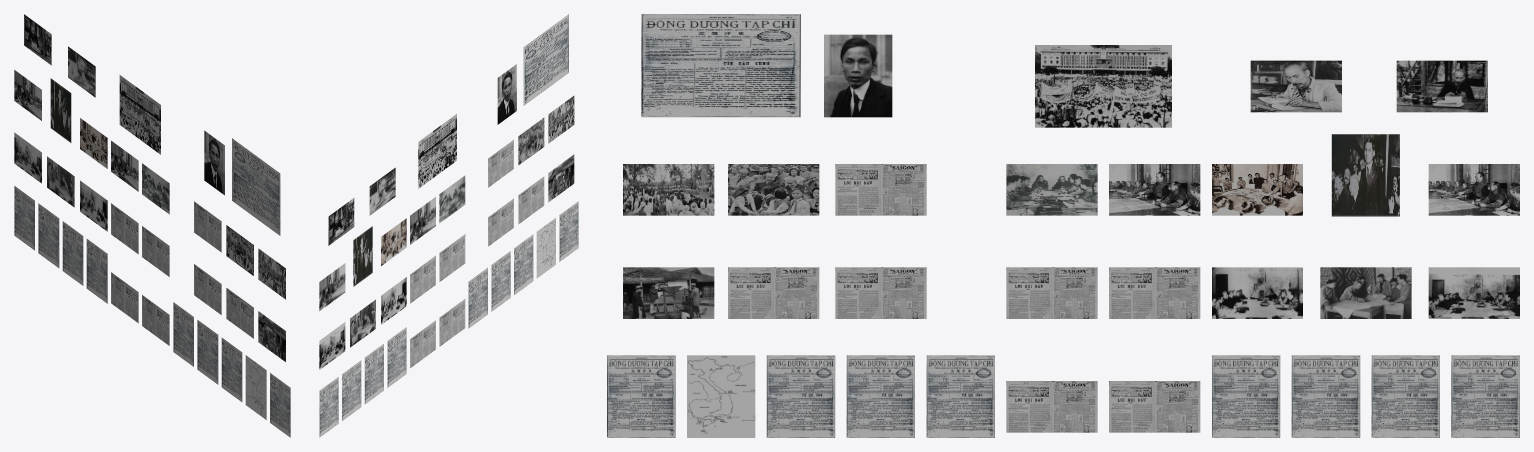
The model's file is HanhTrinhBC_Inside_2.glb.
The picture shows the model from 3 angles, left to right: view 1: azimuth 30°, elevation 25°; view 2: azimuth 150°, elevation 25°; view 3: azimuth 270°, elevation 25°; orthographic projection. The views are drawn at different scales.
Visible parts, largest first — view 1: Plane.009, Plane.006, Plane.011, Plane.010, Plane.028, Plane.002, Plane.015, Plane.025, Plane.019, Plane.007, Plane.029, Plane.027 (+20 smaller); view 2: Plane.009, Plane.006, Plane.007, Plane.029, Plane.027, Plane.026, Plane.002, Plane.015, Plane.025, Plane.028, Plane.011, Plane.010 (+20 smaller); view 3: Plane.009, Plane.006, Plane.002, Plane.019, Plane.027, Plane.029, Plane.028, Plane.026, Plane.007, Plane.011, Plane.010, Plane.015 (+20 smaller).
Boxes of the visible parts, x1=… form: Plane.009: x1=232, y1=138, x2=280, y2=235; Plane.006: x1=119, y1=75, x2=160, y2=154; Plane.011: x1=197, y1=320, x2=218, y2=384; Plane.010: x1=86, y1=239, x2=107, y2=303; Plane.028: x1=245, y1=355, x2=266, y2=419; Plane.002: x1=221, y1=337, x2=242, y2=401; Plane.015: x1=38, y1=203, x2=59, y2=267; Plane.025: x1=50, y1=78, x2=71, y2=142; Plane.019: x1=62, y1=221, x2=83, y2=285; Plane.007: x1=173, y1=302, x2=193, y2=366; Plane.029: x1=270, y1=373, x2=290, y2=437; Plane.027: x1=204, y1=130, x2=224, y2=195; Plane.009: x1=523, y1=14, x2=568, y2=105; Plane.006: x1=418, y1=114, x2=456, y2=188; Plane.007: x1=468, y1=267, x2=487, y2=328; Plane.029: x1=559, y1=201, x2=578, y2=261; Plane.027: x1=497, y1=64, x2=516, y2=124; Plane.026: x1=319, y1=377, x2=338, y2=437; Plane.002: x1=514, y1=234, x2=533, y2=294; Plane.015: x1=342, y1=360, x2=361, y2=420; Plane.025: x1=353, y1=226, x2=372, y2=286; Plane.028: x1=536, y1=218, x2=555, y2=278; Plane.011: x1=491, y1=251, x2=510, y2=311; Plane.010: x1=387, y1=327, x2=406, y2=387; Plane.009: x1=641, y1=14, x2=800, y2=117; Plane.006: x1=1035, y1=45, x2=1171, y2=127; Plane.002: x1=766, y1=355, x2=835, y2=437; Plane.019: x1=1291, y1=355, x2=1360, y2=437; Plane.027: x1=824, y1=34, x2=892, y2=117; Plane.029: x1=607, y1=355, x2=675, y2=437; Plane.028: x1=687, y1=355, x2=755, y2=437; Plane.026: x1=1451, y1=355, x2=1519, y2=437; Plane.007: x1=926, y1=355, x2=994, y2=437; Plane.011: x1=846, y1=355, x2=914, y2=437; Plane.010: x1=1212, y1=355, x2=1280, y2=437; Plane.015: x1=1371, y1=355, x2=1439, y2=437.
Size of the model in its own units: 0 by 2.05 by 4.
32 materials, 32 textured.
